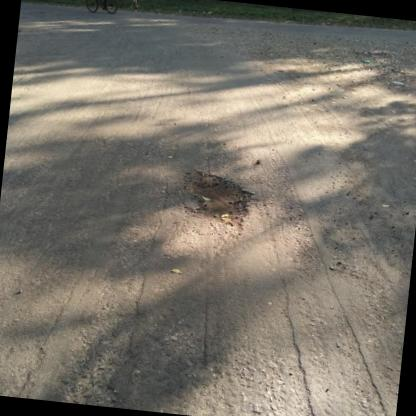pothole: (175, 166, 261, 234)
